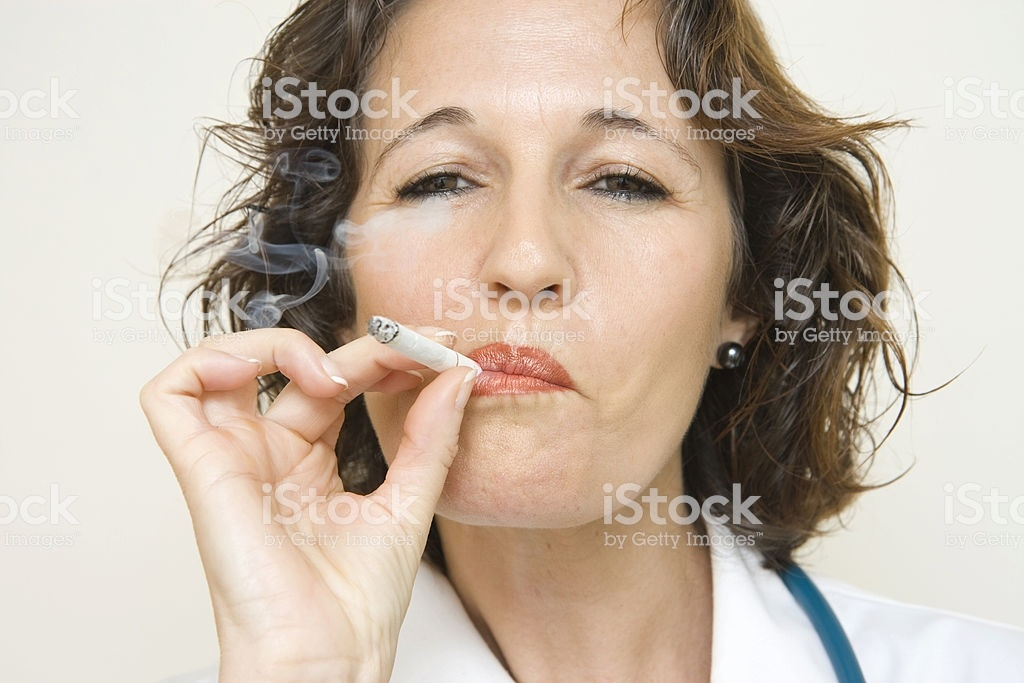sigaretta: (361, 321, 491, 385)
